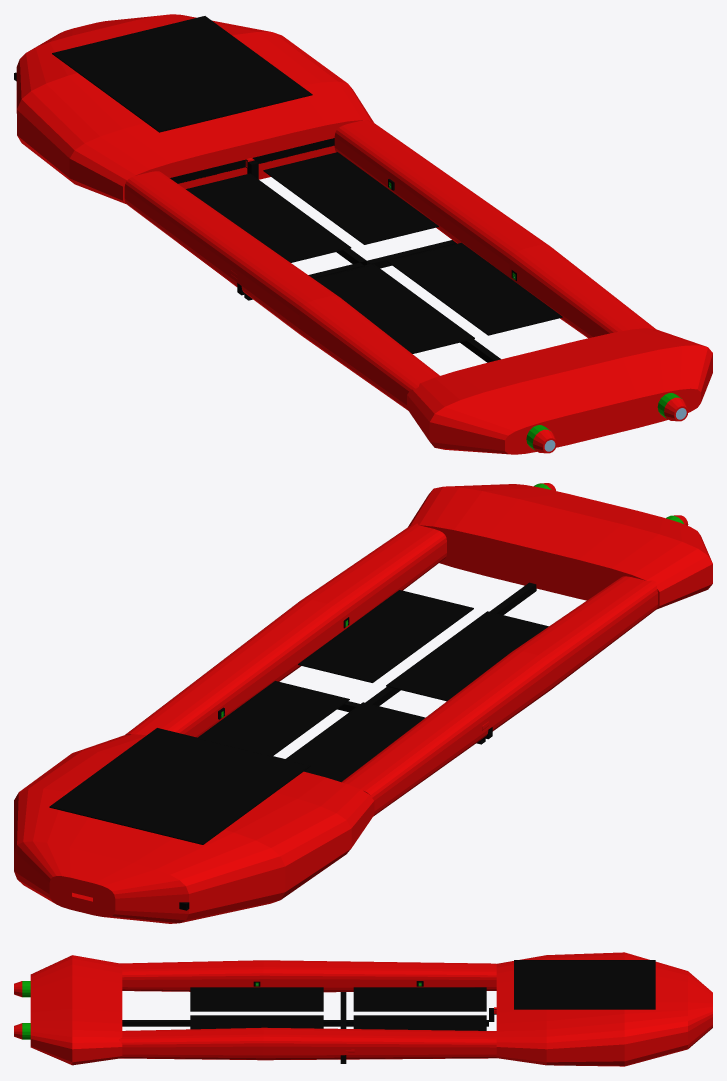
File: confluence.glb
3 views of the same model, one above another, from view 1: azimuth 30°, elevation 25°; view 2: azimuth 150°, elevation 25°; view 3: azimuth 270°, elevation 25° (orthographic). The views are drawn at different scales.
Parts seen in each view (by area): view 1: horizon_confluence:forward_habitat, horizon_confluence:aft_service, horizon_confluence:spine--1, horizon_confluence:spine-1, horizon_confluence:pad_Dorsal visitor terrace, horizon_confluence:pad_spine-1 berth 1, horizon_confluence:pad_spine-1 berth 2, horizon_confluence:pad_spine--1 berth 1, horizon_confluence:pad_spine--1 berth 2, horizon_confluence:transit_guideway, horizon_confluence:room_forecross; view 2: horizon_confluence:forward_habitat, horizon_confluence:aft_service, horizon_confluence:spine--1, horizon_confluence:pad_Dorsal visitor terrace, horizon_confluence:spine-1, horizon_confluence:pad_spine-1 berth 2, horizon_confluence:pad_spine--1 berth 2, horizon_confluence:pad_spine-1 berth 1, horizon_confluence:pad_spine--1 berth 1, horizon_confluence:transit_guideway; view 3: horizon_confluence:forward_habitat, horizon_confluence:spine-1, horizon_confluence:spine--1, horizon_confluence:aft_service, horizon_confluence:pad_Dorsal visitor terrace, horizon_confluence:pad_spine--1 berth 1, horizon_confluence:pad_spine--1 berth 2, horizon_confluence:pad_spine-1 berth 1, horizon_confluence:pad_spine-1 berth 2, horizon_confluence:transit_guideway, horizon_confluence:field_drive_26, horizon_confluence:field_drive_25.
Part boxes in pixels (x1,y1,x2,y2): horizon_confluence:forward_habitat: [16, 14, 373, 204]; horizon_confluence:aft_service: [407, 328, 712, 454]; horizon_confluence:spine--1: [124, 171, 439, 410]; horizon_confluence:spine-1: [334, 120, 656, 338]; horizon_confluence:pad_Dorsal visitor terrace: [52, 16, 312, 132]; horizon_confluence:pad_spine-1 berth 1: [263, 152, 438, 244]; horizon_confluence:pad_spine-1 berth 2: [387, 242, 562, 335]; horizon_confluence:pad_spine--1 berth 1: [186, 173, 351, 262]; horizon_confluence:pad_spine--1 berth 2: [314, 264, 474, 353]; horizon_confluence:transit_guideway: [237, 160, 500, 362]; horizon_confluence:room_forecross: [170, 138, 334, 183]; horizon_confluence:forward_habitat: [14, 734, 374, 923]; horizon_confluence:aft_service: [408, 484, 712, 609]; horizon_confluence:spine--1: [341, 576, 657, 816]; horizon_confluence:pad_Dorsal visitor terrace: [49, 728, 310, 844]; horizon_confluence:spine-1: [125, 523, 446, 737]; horizon_confluence:pad_spine-1 berth 2: [298, 590, 473, 682]; horizon_confluence:pad_spine--1 berth 2: [386, 611, 548, 701]; horizon_confluence:pad_spine-1 berth 1: [198, 681, 349, 755]; horizon_confluence:pad_spine--1 berth 1: [286, 702, 425, 781]; horizon_confluence:transit_guideway: [337, 582, 536, 744]; horizon_confluence:forward_habitat: [496, 952, 712, 1066]; horizon_confluence:spine-1: [119, 1027, 496, 1060]; horizon_confluence:spine--1: [119, 960, 496, 992]; horizon_confluence:aft_service: [30, 955, 122, 1065]; horizon_confluence:pad_Dorsal visitor terrace: [514, 960, 655, 1009]; horizon_confluence:pad_spine--1 berth 1: [353, 987, 486, 1011]; horizon_confluence:pad_spine--1 berth 2: [190, 987, 323, 1011]; horizon_confluence:pad_spine-1 berth 1: [353, 1015, 486, 1030]; horizon_confluence:pad_spine-1 berth 2: [190, 1015, 323, 1029]; horizon_confluence:transit_guideway: [122, 992, 494, 1063]; horizon_confluence:field_drive_26: [14, 1023, 30, 1039]; horizon_confluence:field_drive_25: [14, 981, 30, 997].
Size of the model in its own units: 129 by 31.96 by 420.
